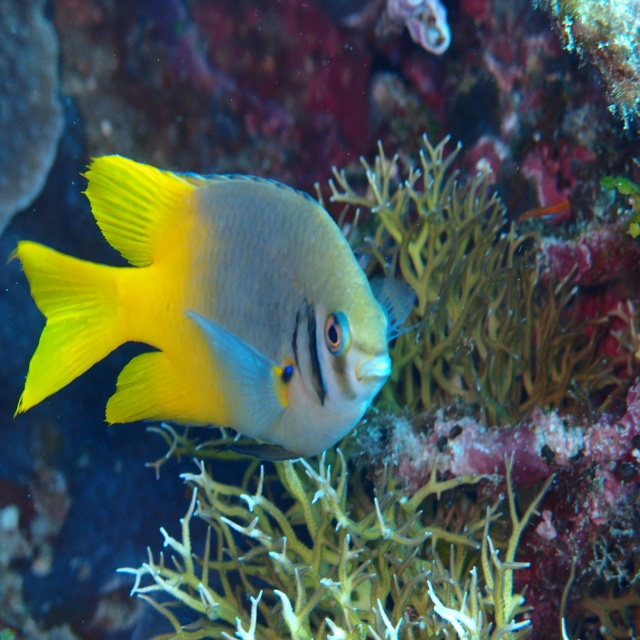Fish: (3, 153, 421, 462)
